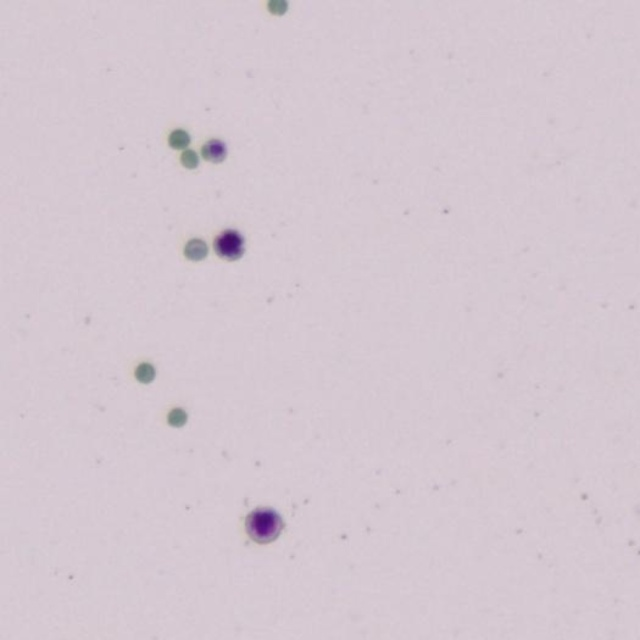intermediate: (246, 507, 283, 542), (213, 229, 244, 260), (200, 137, 227, 163)
non_viable: (183, 238, 207, 260), (168, 128, 189, 149), (134, 362, 155, 383), (167, 407, 187, 427), (180, 149, 197, 168), (267, 0, 288, 15)
